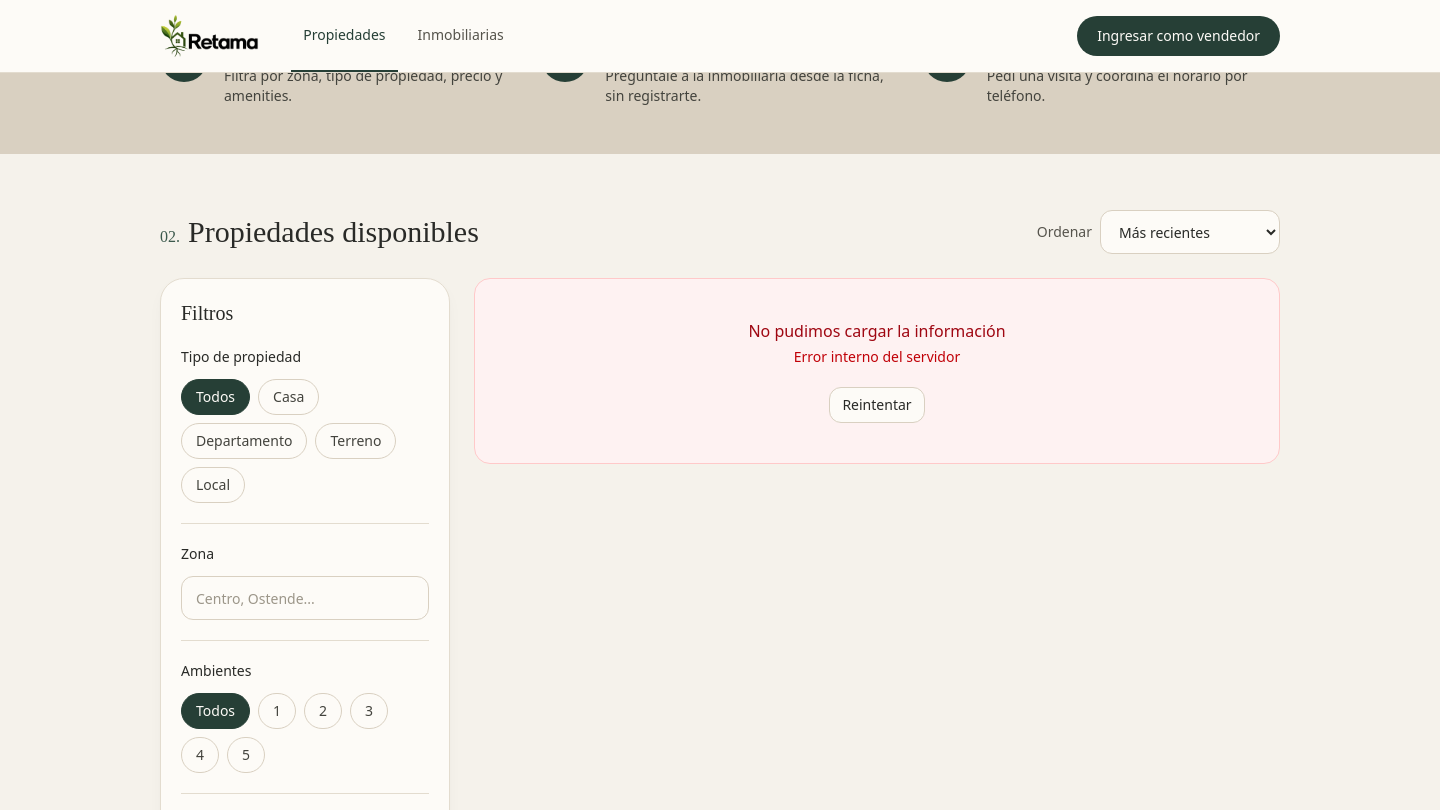
Test case: inicio: listado de propiedades › si la api falla muestra el error del back y deja reintentar
This screenshot has width=1440, height=810.
(page scrolled)
Expected: the message shows "Error interno del servidor", [794, 347, 960, 366]
Click the button "Reintentar" at (877, 405), box [829, 387, 925, 423]
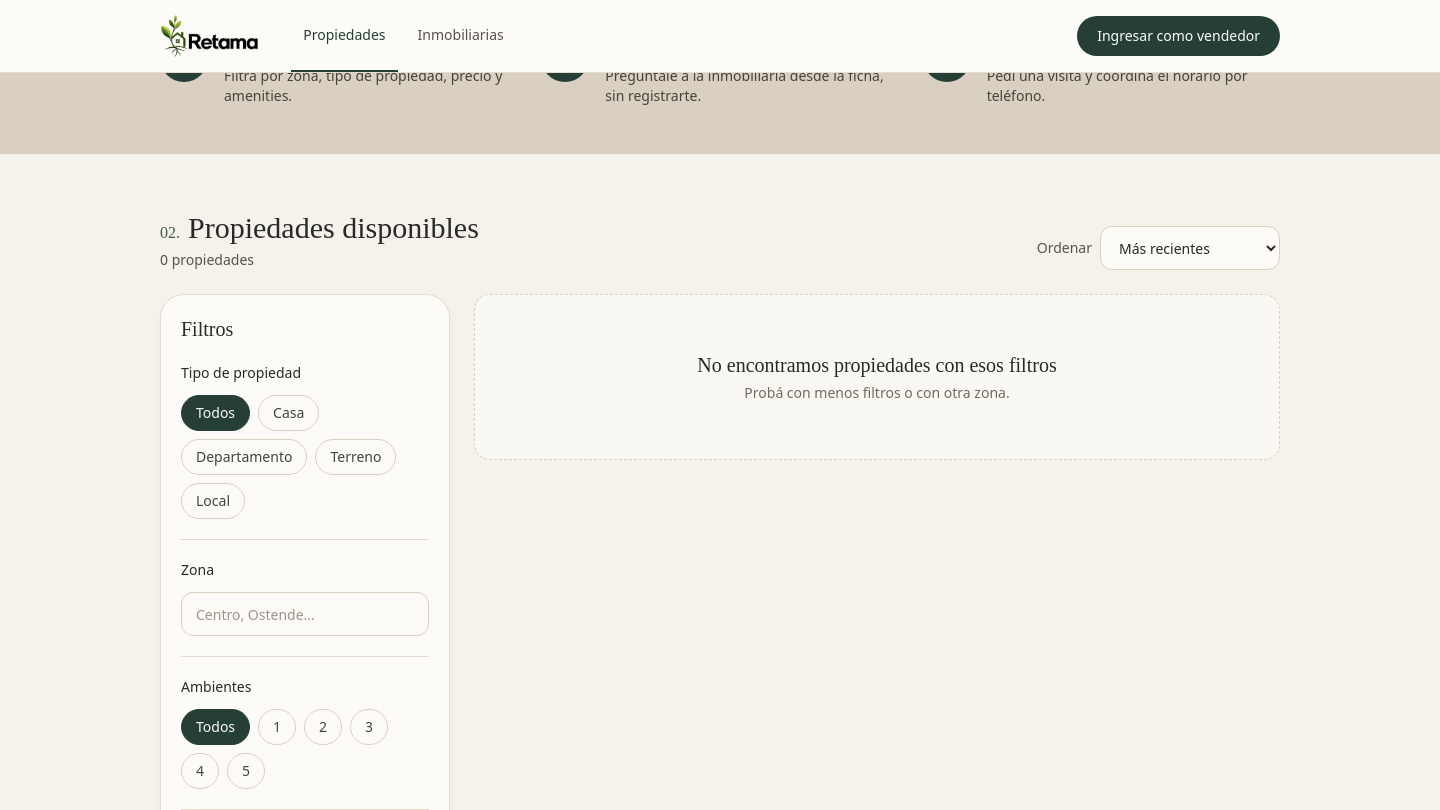
Expected: the text "No encontramos propiedades con esos filtros" is shown, [697, 354, 1057, 376]
